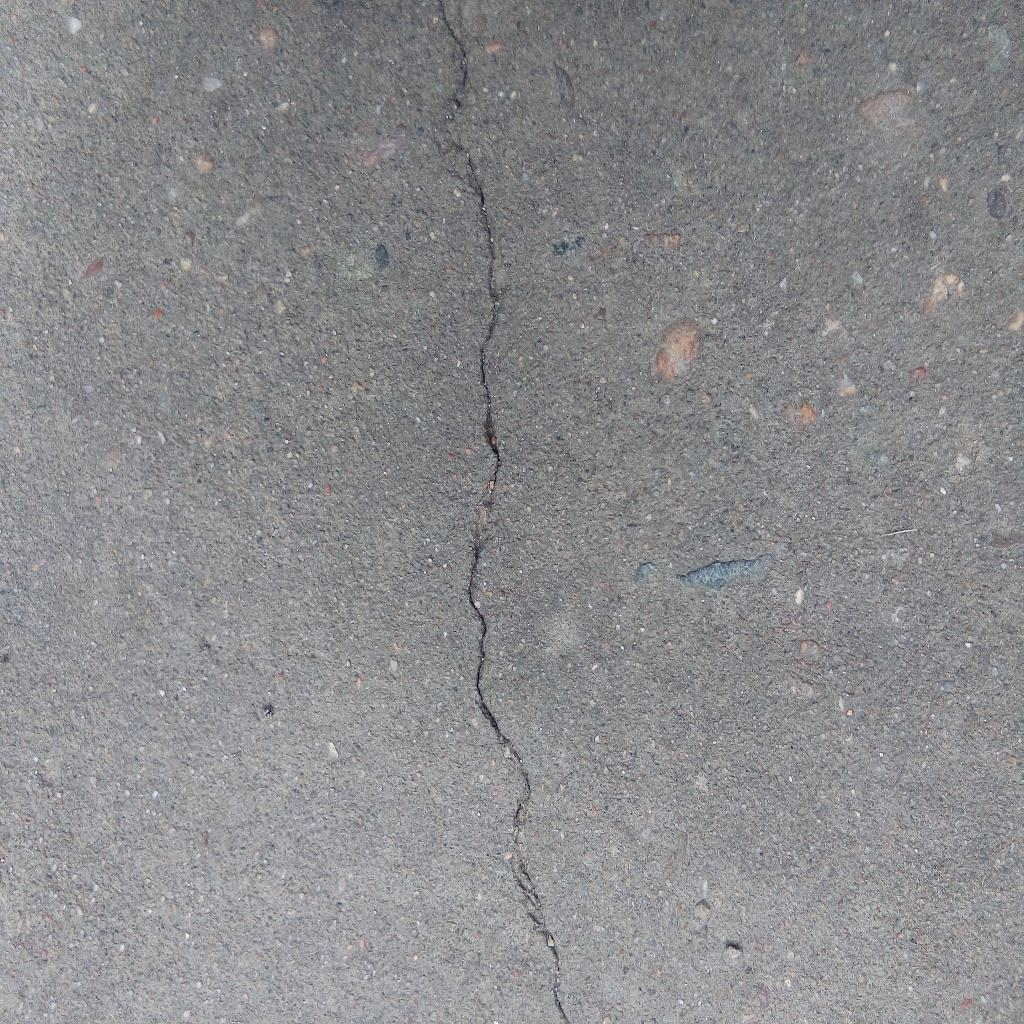Crack: (440, 1, 574, 1024)
